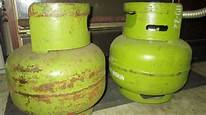gas_ijo: (6, 2, 104, 115), (109, 1, 191, 104)
